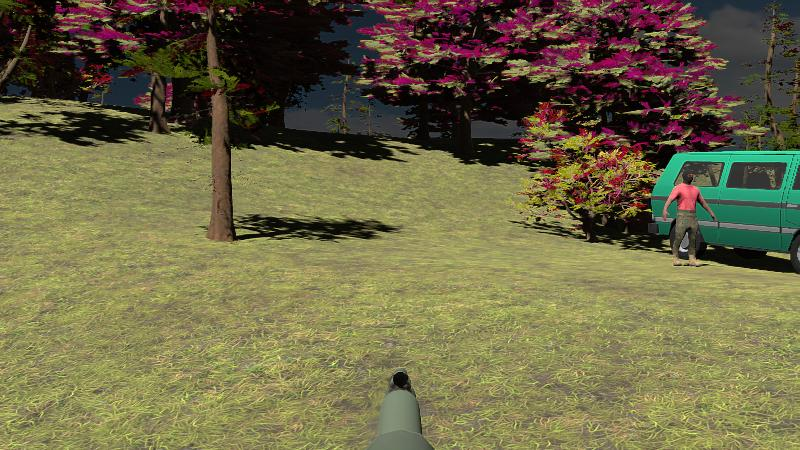Human: (662, 172, 714, 267), (664, 169, 714, 267)
car: (648, 151, 799, 273)
